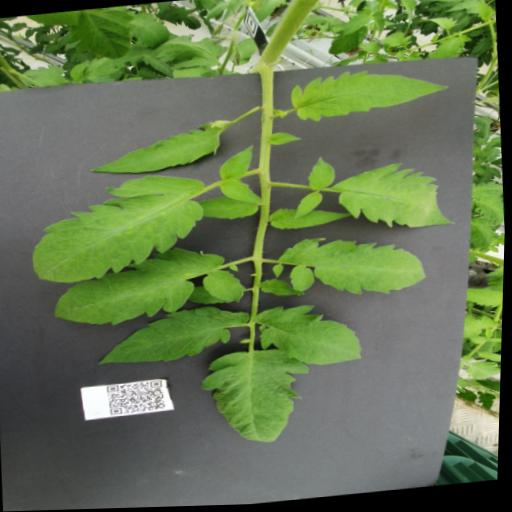Healthy: (27, 170, 209, 286), (52, 244, 230, 330), (199, 346, 316, 450), (276, 229, 429, 305), (94, 301, 254, 370), (289, 63, 451, 126), (329, 159, 457, 238), (253, 299, 369, 372), (86, 120, 224, 178), (62, 5, 137, 65), (147, 32, 224, 74), (270, 202, 354, 232), (194, 193, 260, 223), (126, 9, 171, 52), (202, 268, 247, 307), (218, 144, 257, 183), (326, 26, 369, 57), (219, 176, 259, 207), (339, 8, 376, 41), (427, 36, 473, 62), (472, 196, 507, 230), (306, 156, 338, 192), (259, 277, 305, 300), (466, 287, 505, 313), (470, 218, 500, 251), (291, 192, 325, 221), (476, 378, 503, 401), (478, 351, 504, 368), (417, 0, 479, 7)
